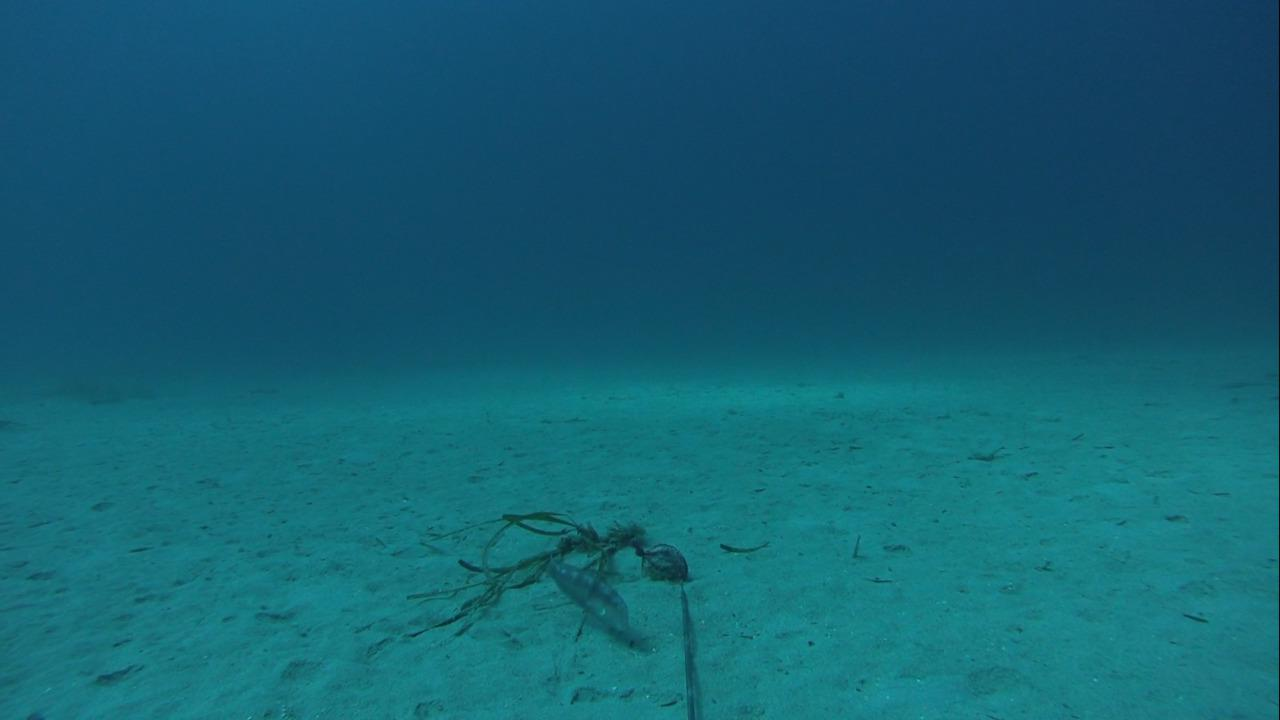raor: (539, 554, 633, 640)
